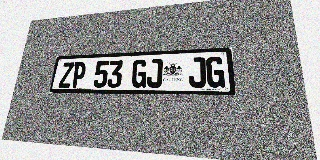3: (107, 60, 123, 88)
5: (93, 61, 109, 88)
G: (206, 56, 225, 88), (131, 59, 147, 88)
J: (189, 57, 206, 88), (146, 59, 163, 88)
P: (71, 62, 87, 88)
Z: (58, 62, 74, 88)
